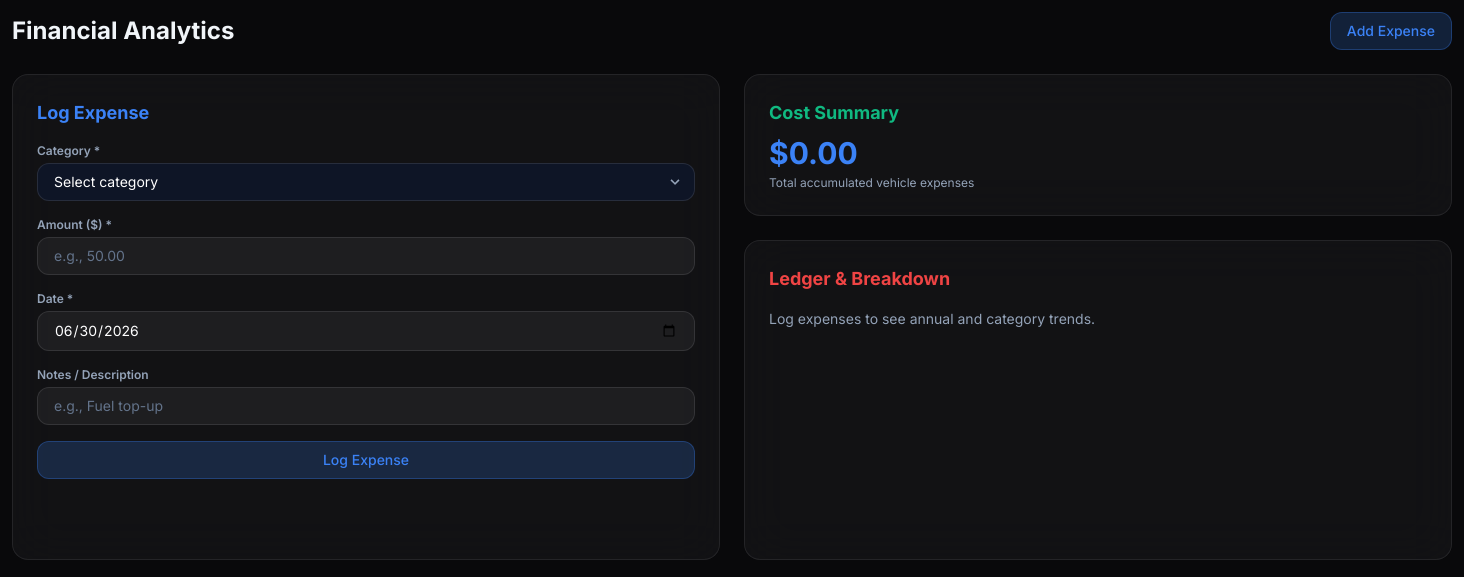
Test: FinanceView Unit Tests › Normal (Inline) Expense Logging › shows error when date is in the future
Select "Fuel" in the dropdown with id "expense-category" at (366,182), box [37, 163, 695, 201]
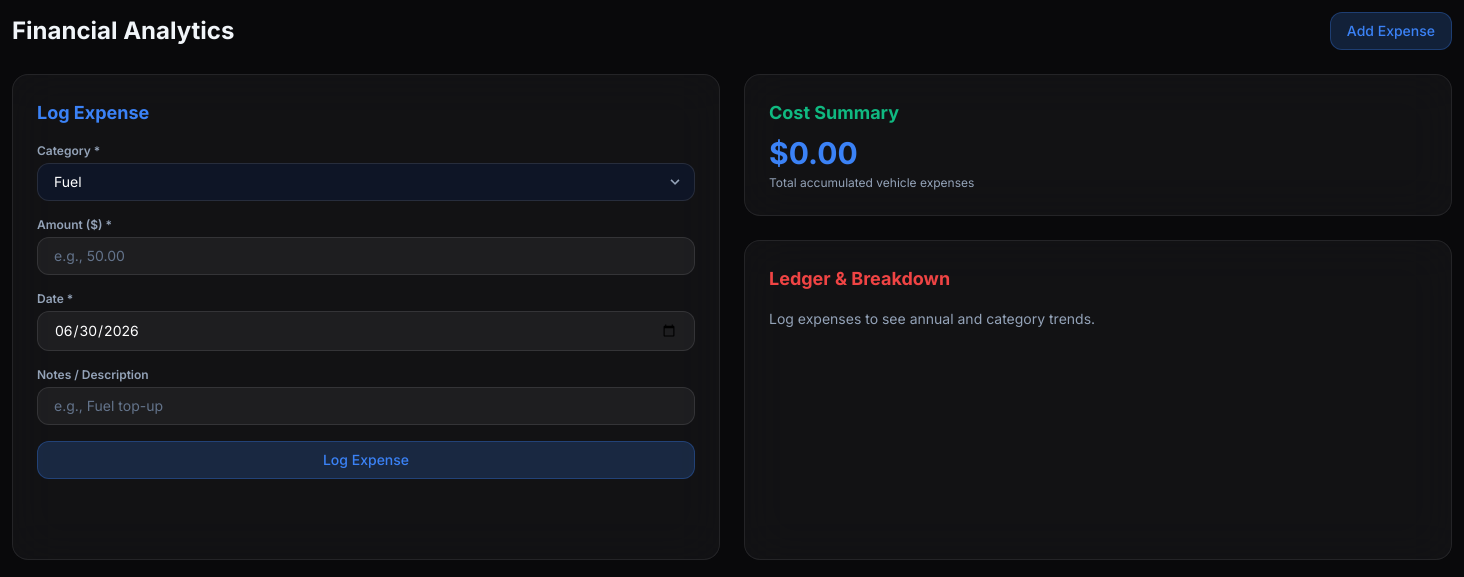
Type "50" into the number field with id "amount" at (366,256), box [37, 237, 695, 275]
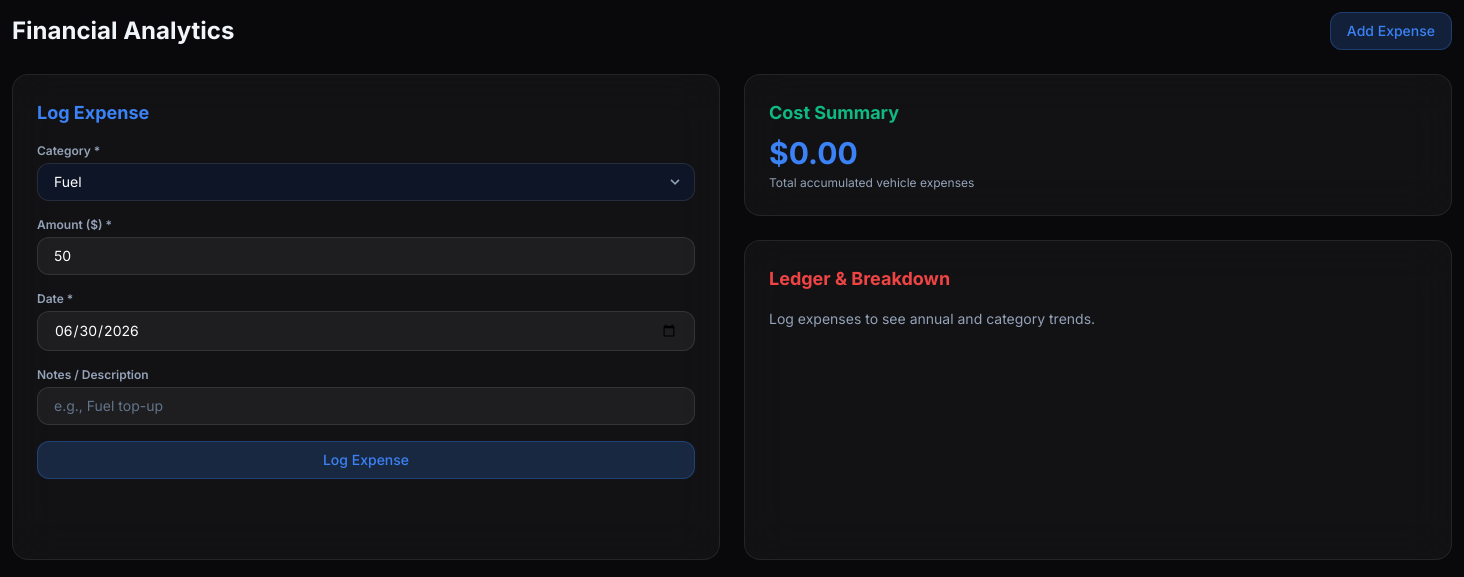
Type "2026-07-01" into the date field with id "expense-date" at (366,331), box [37, 311, 695, 351]
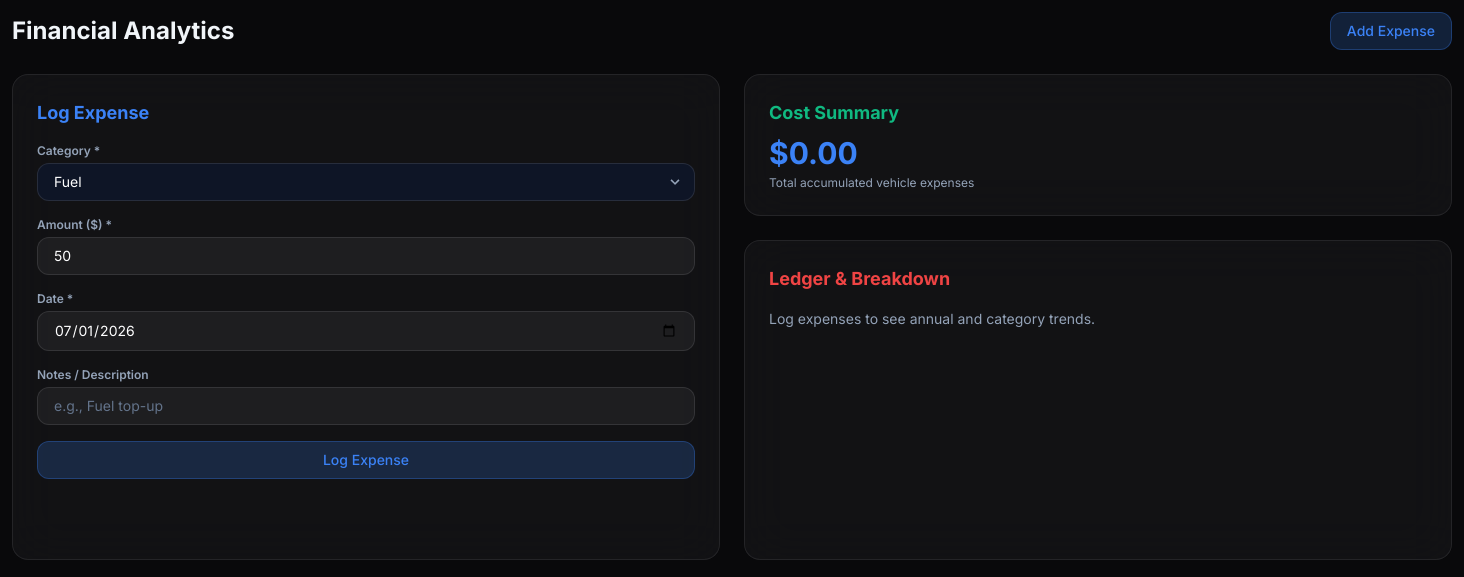
Click the button "Log Expense" at (366,460), box [37, 441, 695, 479]
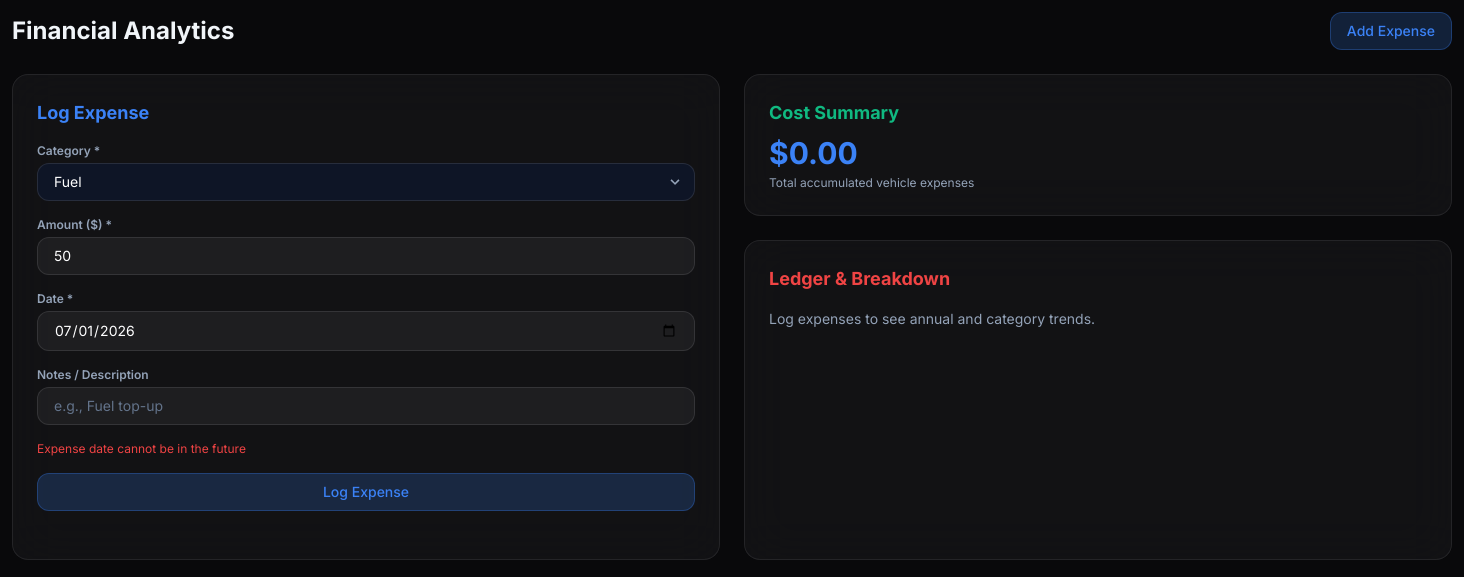
Now the text "Expense date cannot be in the future" is shown, box [37, 441, 246, 456]
